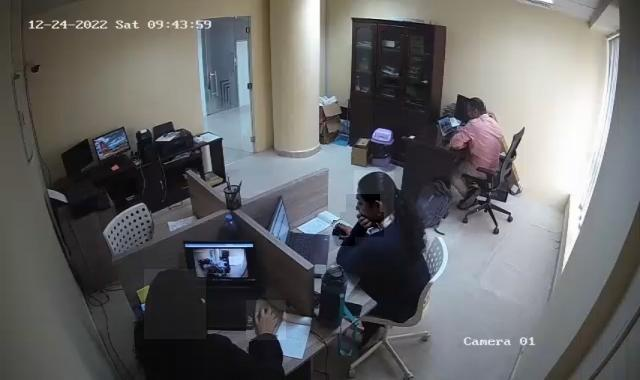no_apron: (247, 301, 287, 341), (340, 212, 384, 237), (334, 221, 356, 247)
no_gloves: (144, 269, 206, 339), (354, 170, 394, 224), (466, 94, 486, 125)
no_hairnet: (347, 194, 381, 226), (464, 102, 480, 122)
